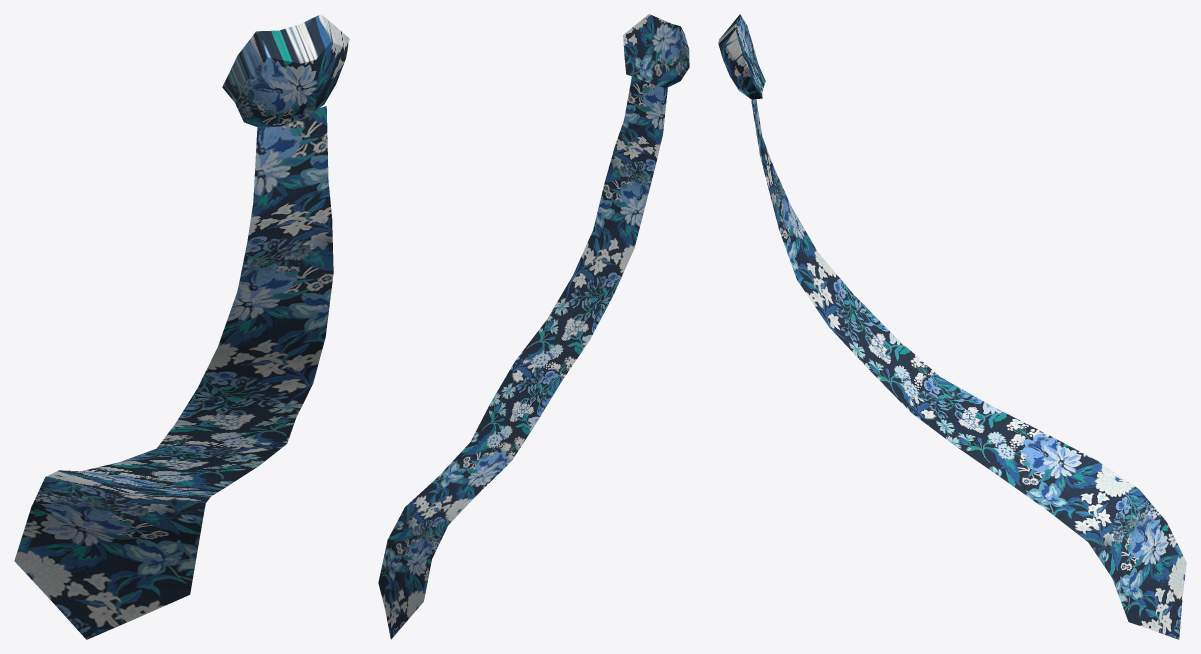
Rendered from Pose-11_SuitTie-2.fbx.
The picture shows the model from 3 angles, left to right: view 1: azimuth 30°, elevation 25°; view 2: azimuth 150°, elevation 25°; view 3: azimuth 270°, elevation 25°; orthographic projection. The views are drawn at different scales.
Parts seen in each view (by area): view 1: Pose-11_SuitTie-2; view 2: Pose-11_SuitTie-2; view 3: Pose-11_SuitTie-2.
Part boxes in pixels (left/top/right/bottom): Pose-11_SuitTie-2: left=14, top=14, right=349, bottom=639; Pose-11_SuitTie-2: left=378, top=14, right=689, bottom=639; Pose-11_SuitTie-2: left=718, top=14, right=1186, bottom=639.
Size of the model in its own units: 12.04 by 39.32 by 29.1.
